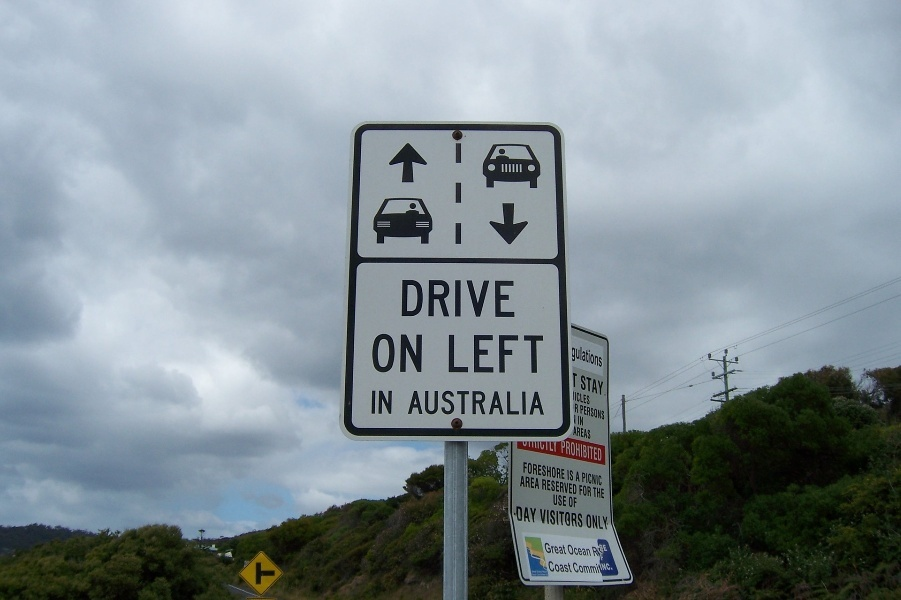text: (385, 334, 400, 373), (401, 334, 416, 373), (449, 334, 464, 373), (465, 334, 480, 373), (481, 334, 496, 373), (497, 334, 512, 373), (513, 334, 528, 373), (529, 334, 544, 373), (417, 280, 432, 319), (433, 280, 448, 319), (449, 280, 464, 319), (465, 280, 480, 319), (481, 280, 496, 319), (497, 280, 512, 319), (402, 280, 416, 319), (373, 334, 384, 373), (529, 391, 545, 416), (577, 344, 592, 370), (417, 391, 432, 416), (433, 391, 448, 416), (449, 391, 464, 416), (465, 391, 480, 416), (481, 391, 496, 416), (497, 391, 512, 416), (513, 391, 528, 416), (561, 440, 576, 463), (577, 440, 592, 463), (372, 390, 384, 415), (529, 460, 544, 480), (545, 460, 560, 480), (593, 344, 604, 370), (545, 509, 560, 528), (561, 509, 576, 528), (417, 334, 424, 373), (545, 478, 560, 496), (561, 478, 576, 496), (593, 514, 608, 531), (529, 437, 544, 454), (593, 375, 605, 396), (545, 437, 559, 454), (581, 375, 592, 396), (593, 440, 603, 463), (529, 475, 543, 491), (577, 426, 592, 440), (593, 486, 608, 500), (545, 542, 560, 556), (577, 391, 592, 405), (577, 544, 593, 557), (516, 506, 528, 523), (385, 390, 393, 415), (577, 561, 592, 574), (578, 485, 592, 498), (547, 560, 560, 574), (561, 560, 574, 574), (580, 404, 592, 419), (593, 404, 605, 419), (593, 472, 604, 487), (578, 416, 592, 427), (582, 472, 592, 487), (566, 468, 576, 482), (529, 506, 537, 523), (577, 509, 584, 528), (521, 475, 528, 491), (572, 344, 576, 370), (552, 494, 560, 507), (568, 496, 576, 509), (568, 544, 576, 557), (593, 561, 601, 574), (586, 514, 592, 531), (523, 460, 528, 480), (561, 460, 566, 480), (561, 542, 568, 556), (561, 494, 568, 507), (598, 544, 608, 552), (513, 280, 515, 319), (593, 546, 600, 557), (540, 509, 544, 528), (413, 391, 416, 416), (572, 371, 576, 389), (599, 563, 608, 571), (524, 437, 528, 454), (541, 478, 544, 496), (577, 470, 581, 483), (572, 561, 576, 574), (573, 426, 576, 440), (573, 391, 576, 405), (609, 563, 614, 571), (577, 478, 579, 496), (577, 403, 580, 414), (574, 470, 576, 483), (577, 496, 579, 509), (574, 403, 576, 414), (577, 371, 578, 389), (609, 514, 610, 531), (543, 542, 544, 556), (591, 546, 592, 557)
